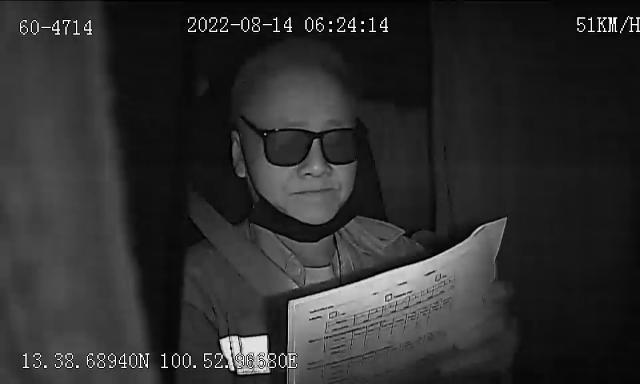Seatbelt: (186, 192, 300, 292)
